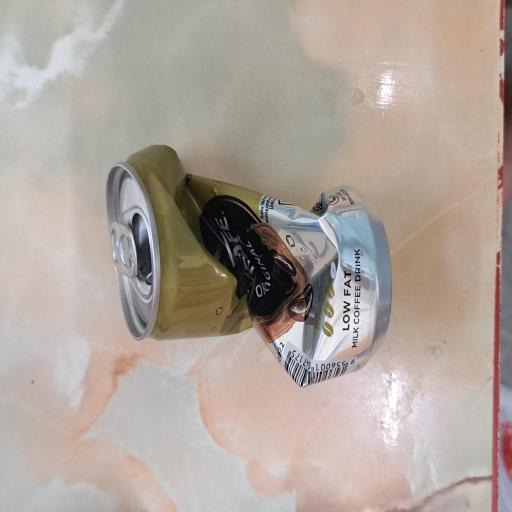can: (94, 142, 282, 512)
pop tab: (176, 142, 218, 186)
